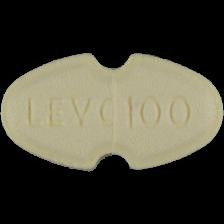66336-601: (0, 0, 224, 224)
